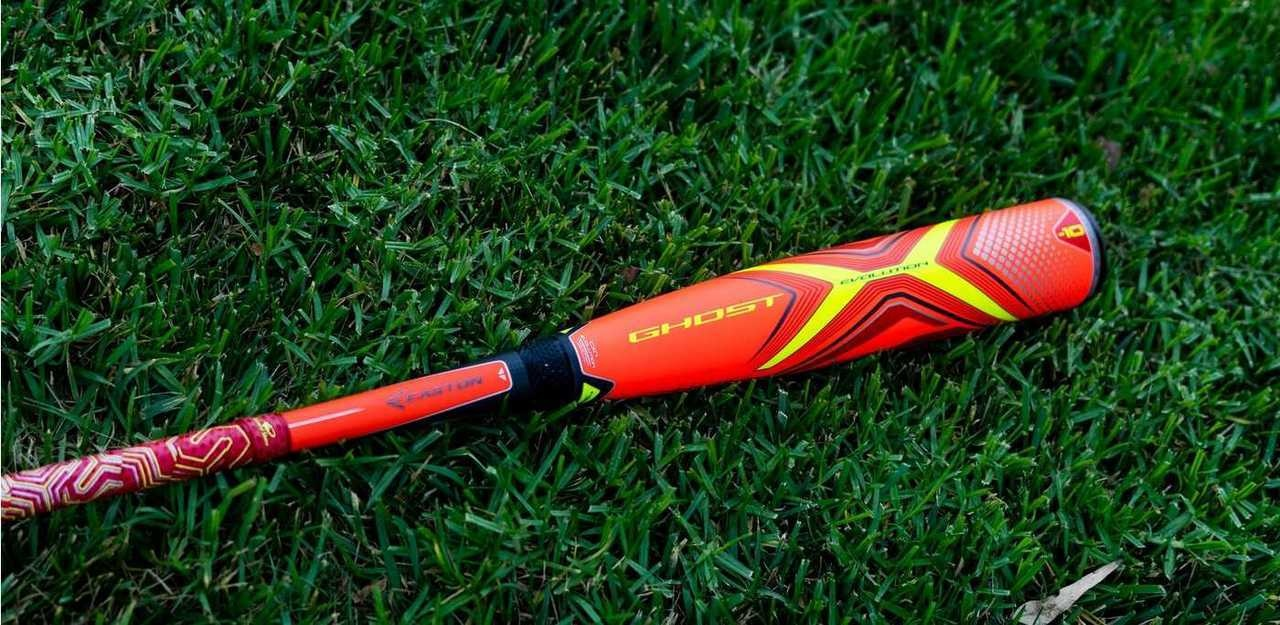bita: (1, 204, 1103, 530)
